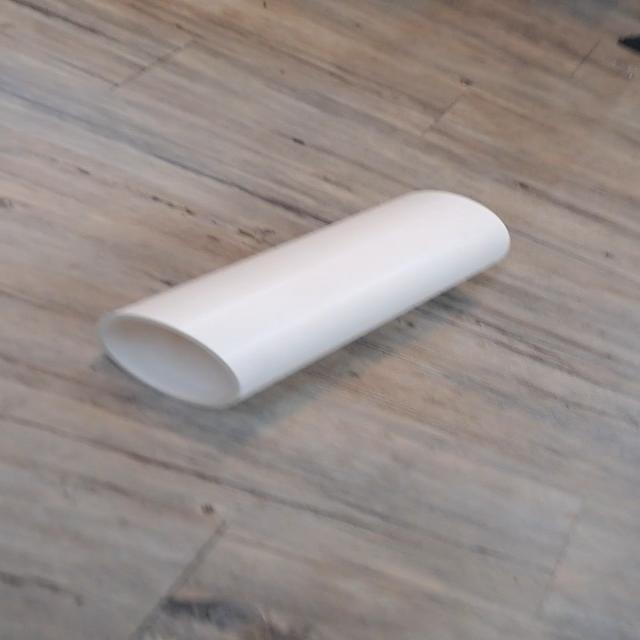CORAL: (92, 178, 520, 412)
